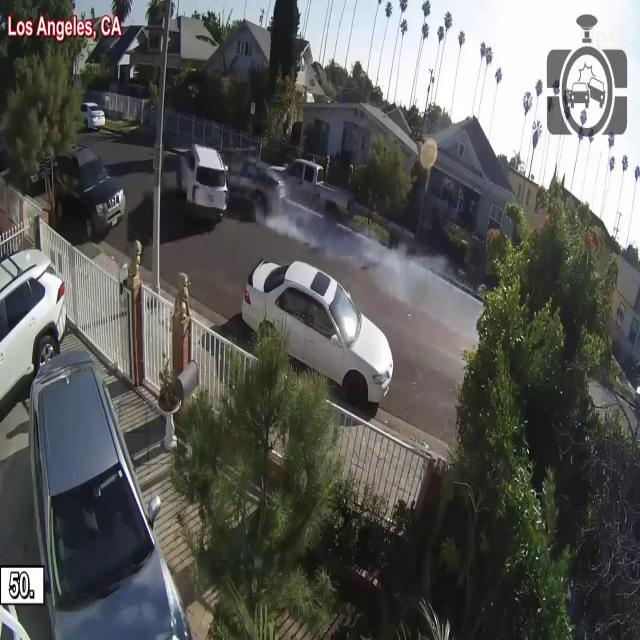accident: (168, 123, 287, 248)
